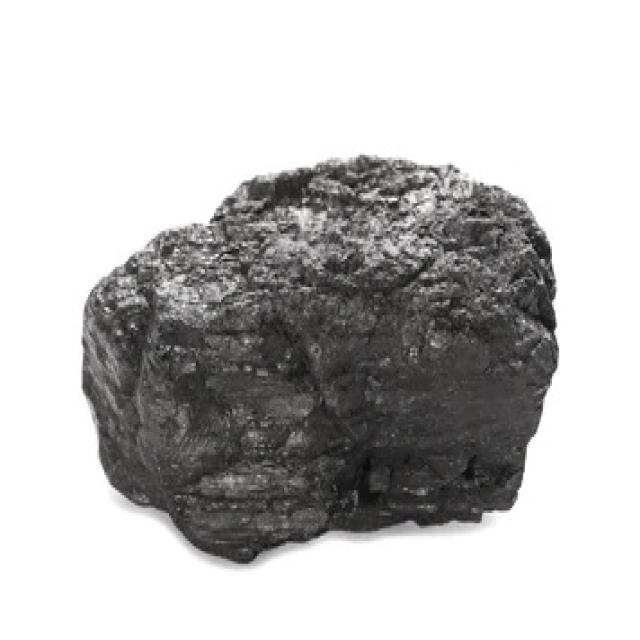Sedimentary: (74, 145, 575, 571)
